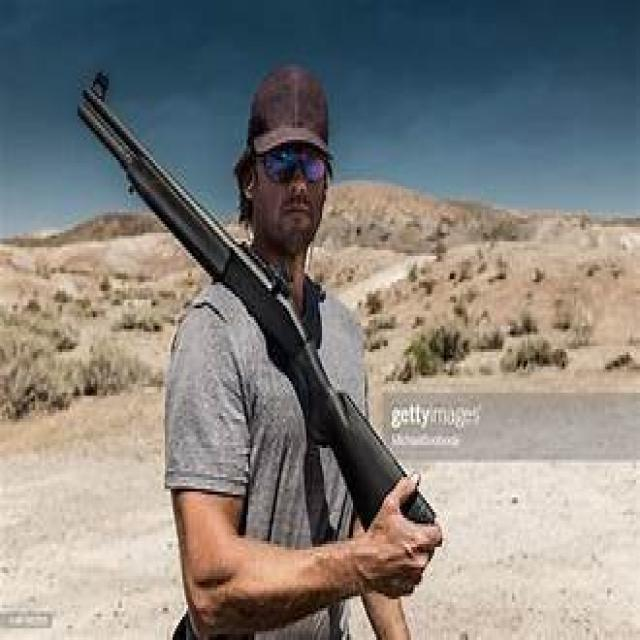Rifle: (69, 64, 444, 588)
